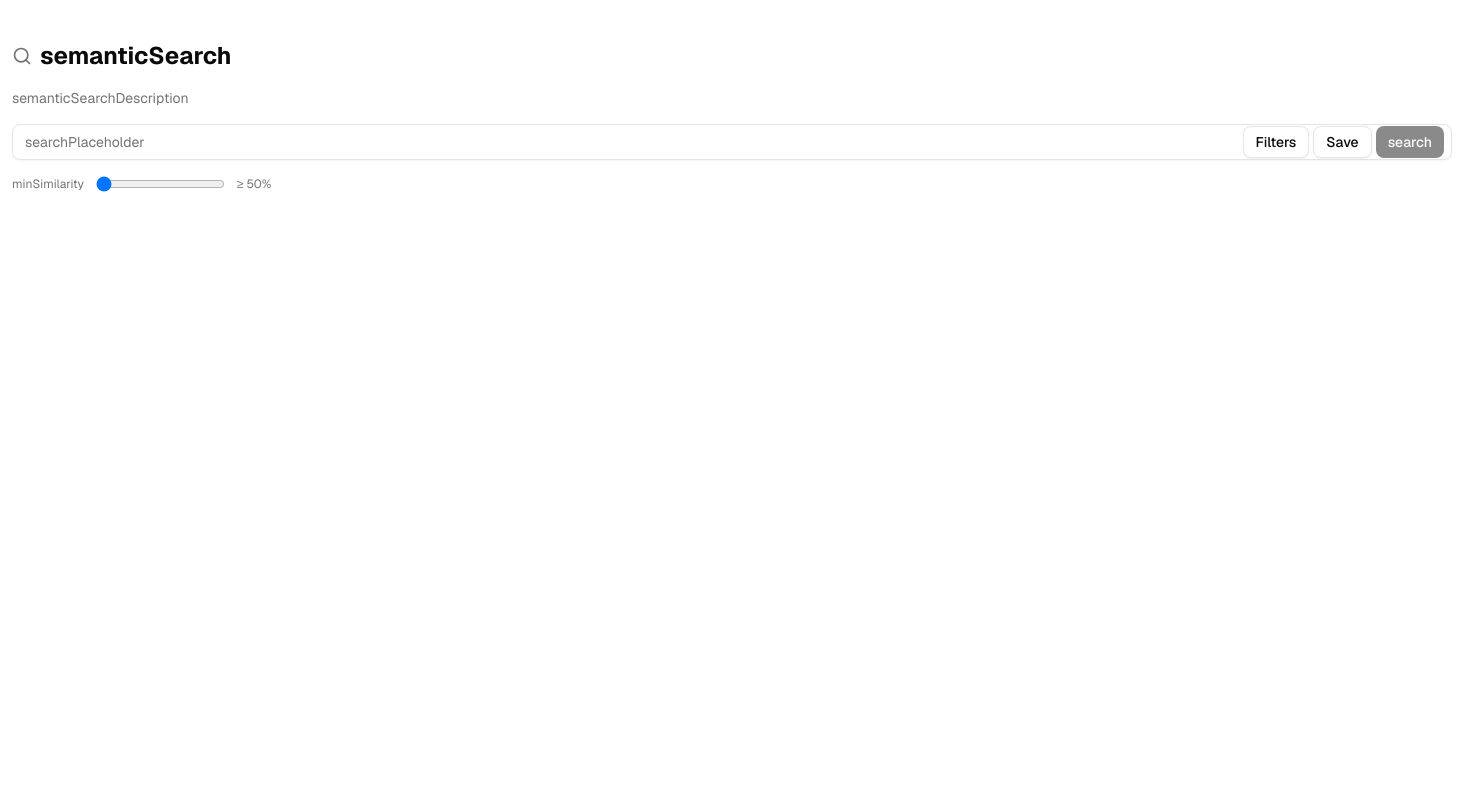
it: SearchBar › Search Results Display › displays result count
Type "test" into the field with placeholder "searchPlaceholder" at (732, 142), box [12,124,1452,160]
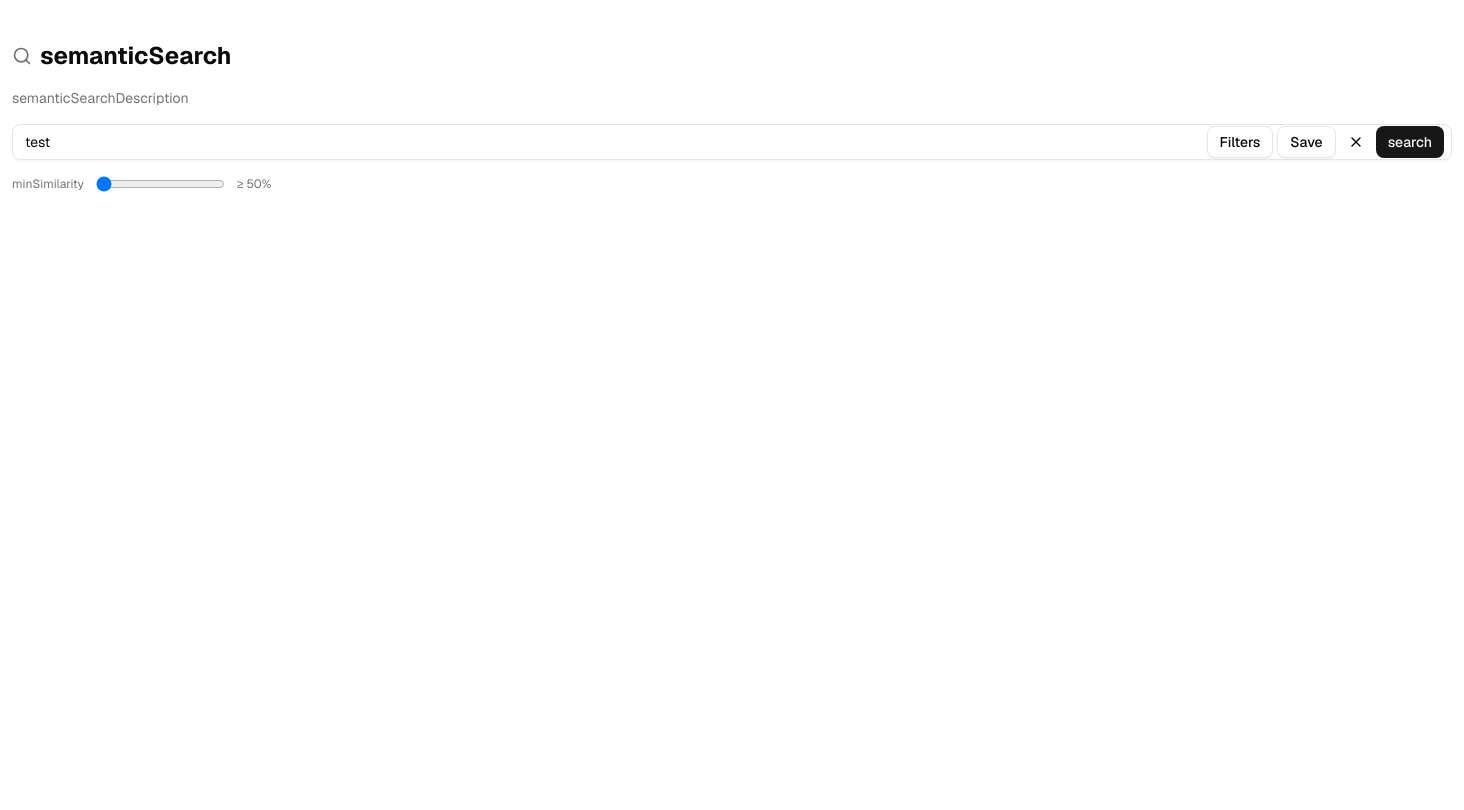
Submit the form with placeholder "searchPlaceholder", box [12,124,1452,160]
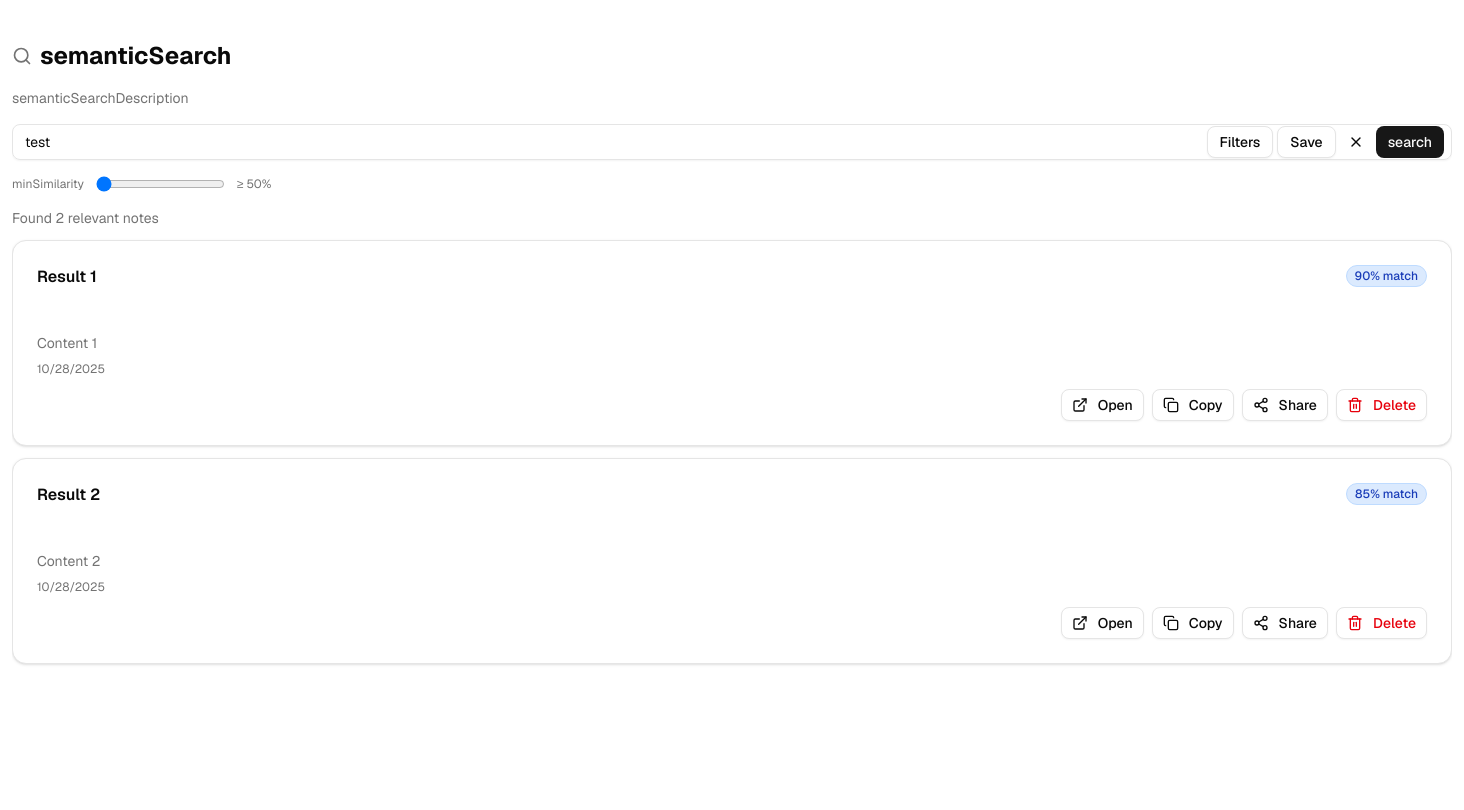
Expected: the text "Found 2 relevant notes" is shown, [12,209,159,227]
